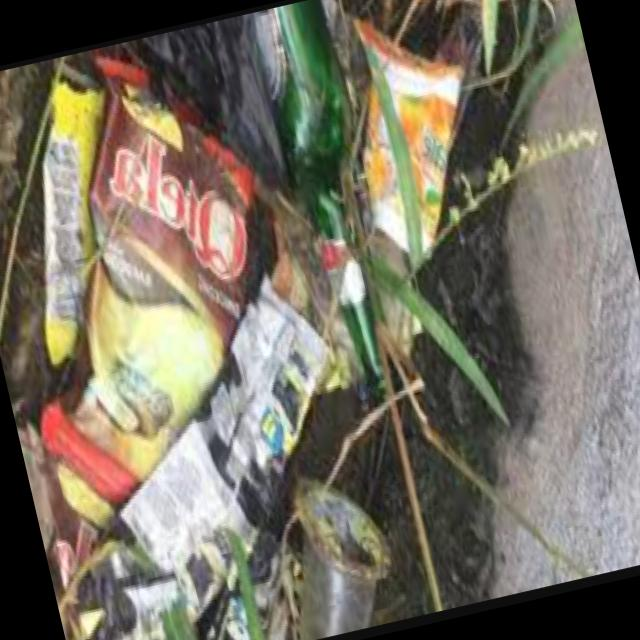GelasPlastik: (333, 8, 507, 277), (262, 466, 409, 640)
